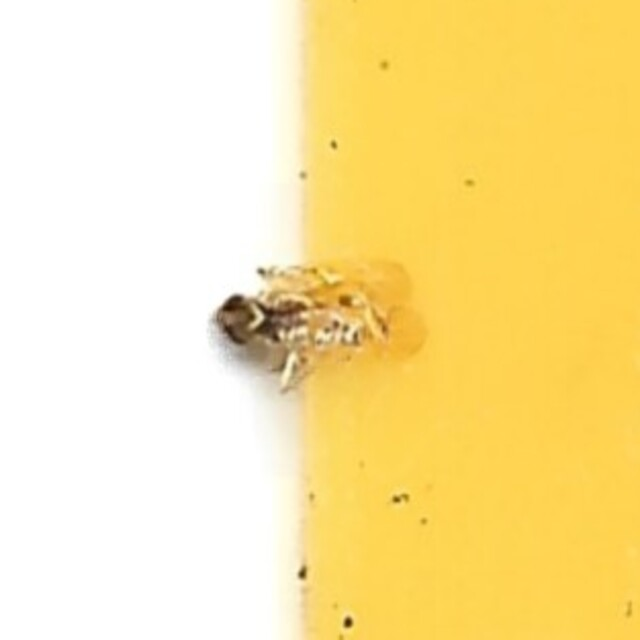Hemiptera: (204, 251, 436, 389)
